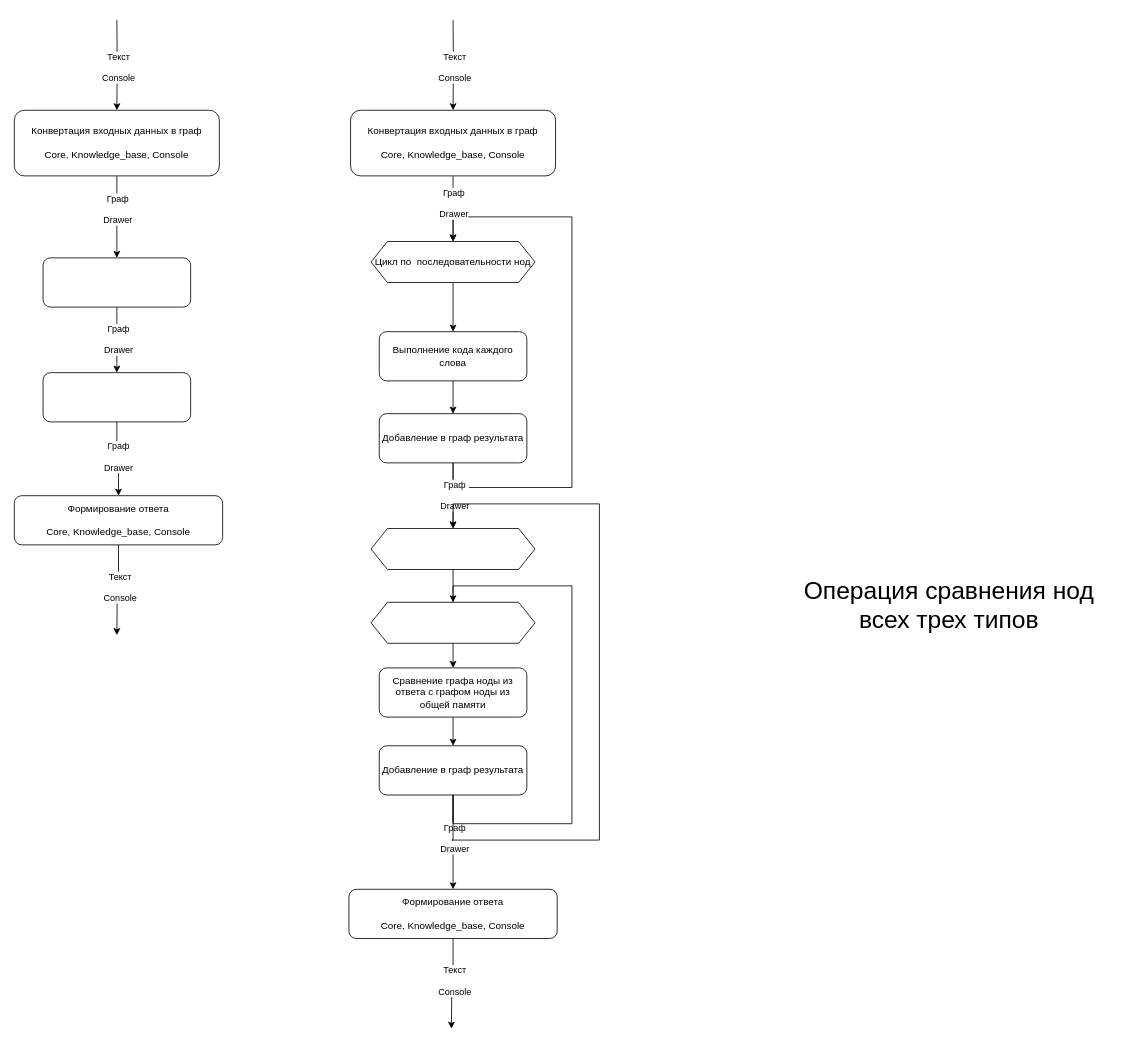
Image size: 1136x1050. Some labels were removed from this diagram. Each missing label, with the box of its shape:
Выполнение входного графа: (42, 257, 191, 307)
Сравнение с уже известным графом: (42, 372, 191, 422)
Цикл по всем знаемым нодам: (370, 528, 535, 569)
Цикл по всем нодам из ответа: (370, 601, 535, 643)
